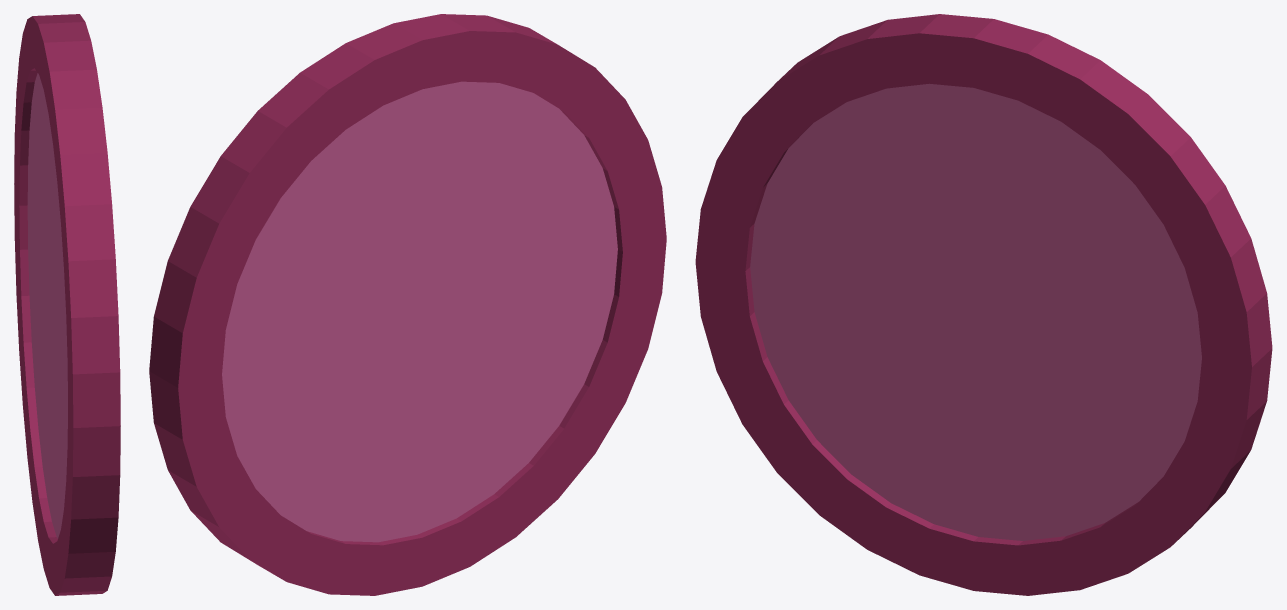
The model's file is Pontan.fbx.
3 renders of one model, left to right at view 1: azimuth 30°, elevation 25°; view 2: azimuth 150°, elevation 25°; view 3: azimuth 270°, elevation 25°, orthographic. The views are drawn at different scales.
Parts seen in each view (by area): view 1: Pontan; view 2: Pontan; view 3: Pontan.
Part boxes in pixels (box(x1,y1,x2,y2)): Pontan: box(14, 14, 120, 595); Pontan: box(149, 14, 666, 595); Pontan: box(695, 14, 1272, 595).
Size of the model in its own units: 118 by 244 by 231.
